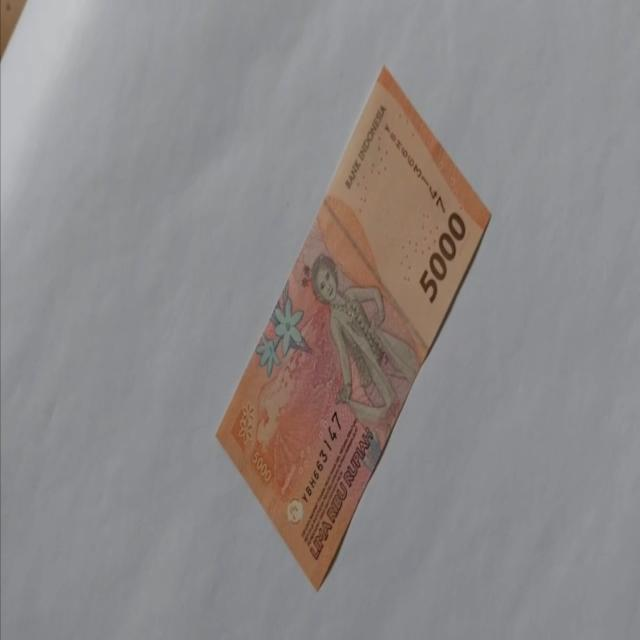lima ribu rupiah: (214, 63, 492, 591)
